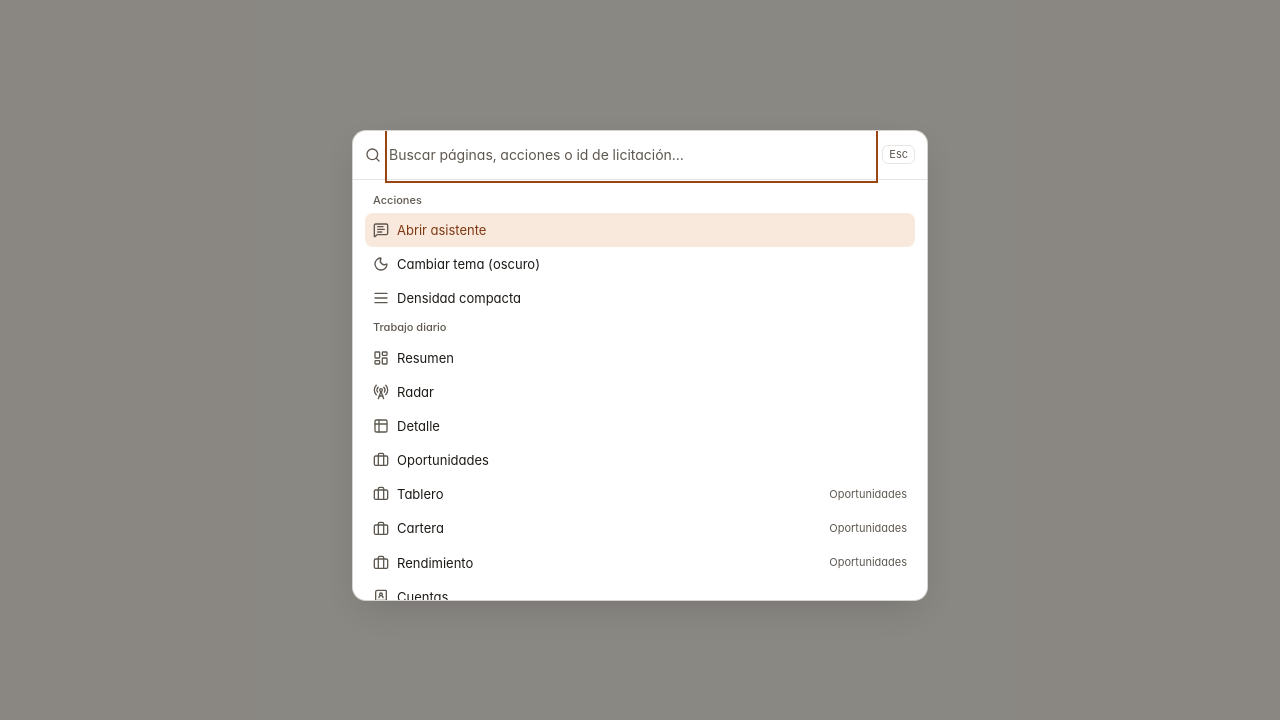
Test: CommandPalette › shows a 'jump to licitación' item for id-like queries
In the dropdown with placeholder "Buscar páginas, acciones o id de licitación…": (632, 155) [389,131,874,179], type "ES-2024-12345"
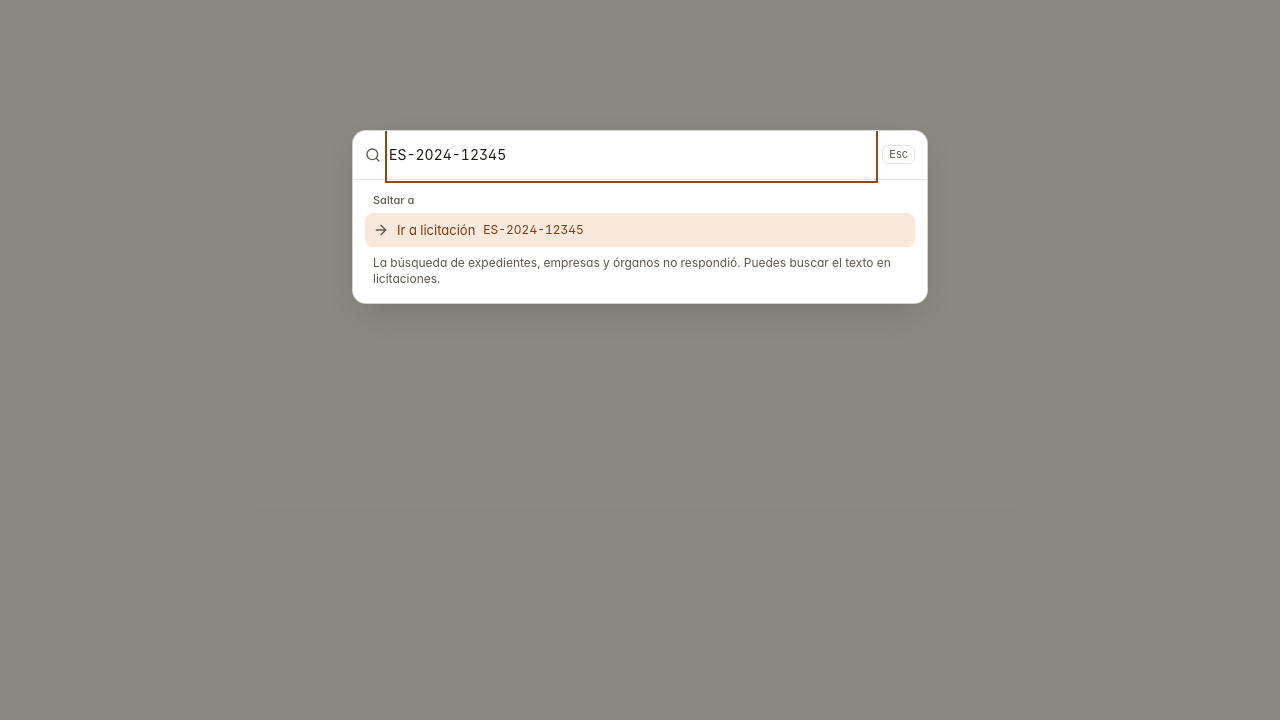
Now the text "Saltar a" is shown, box [373,193,414,207]
